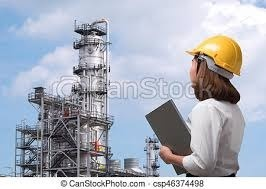helmet: (181, 34, 243, 74)
person with partial safety: (179, 33, 248, 175)
